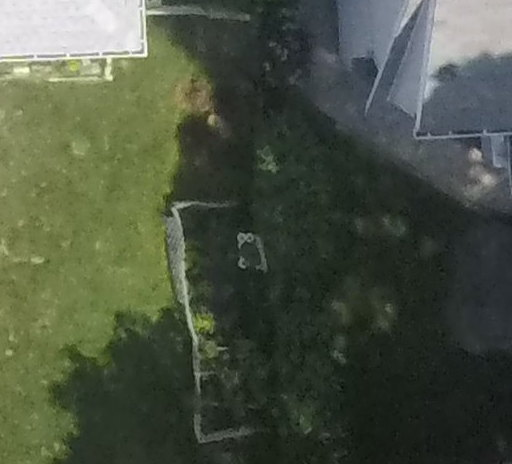container: (234, 229, 249, 246)
